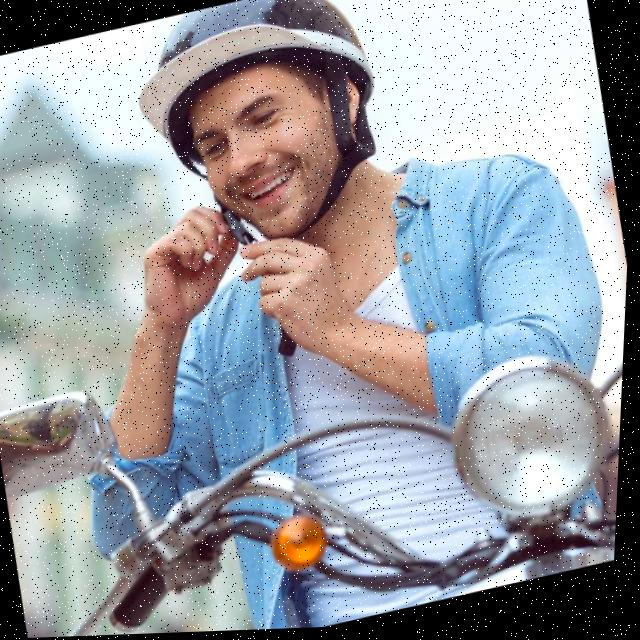helmet: (111, 0, 415, 277)
